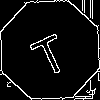T: (25, 25, 72, 79)
